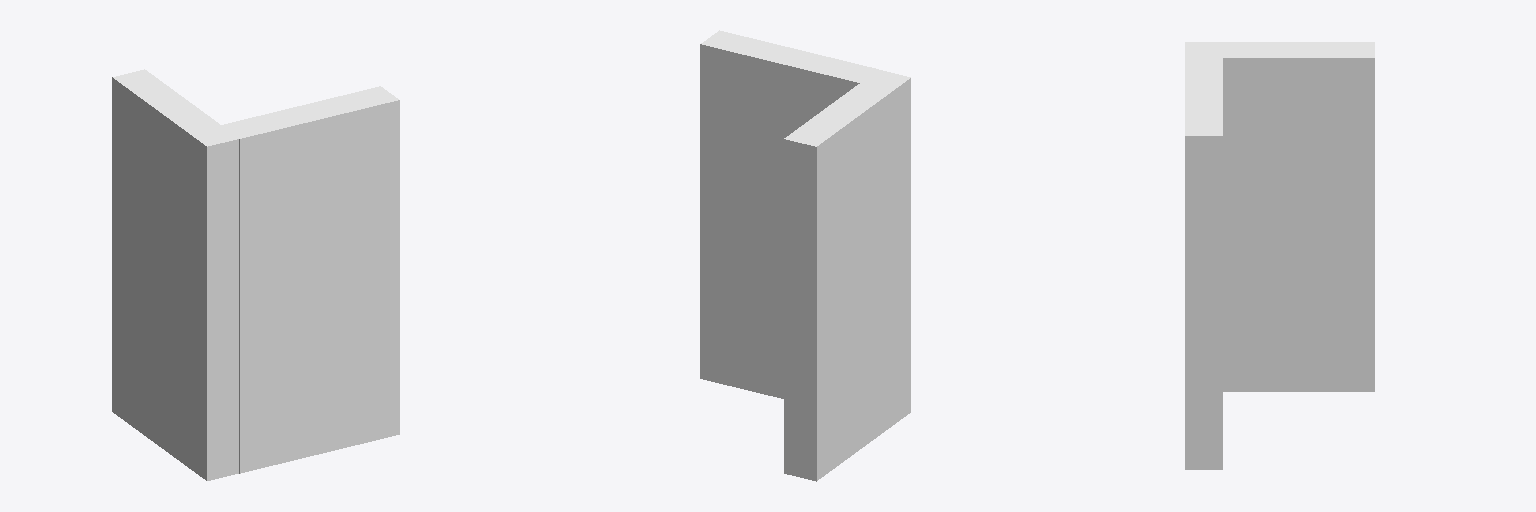
The model's file is brickWall.obj.
The picture shows the model from 3 angles: view 1: azimuth 30°, elevation 25°; view 2: azimuth 150°, elevation 25°; view 3: azimuth 270°, elevation 25°; orthographic projection.
Parts seen in each view (by area): view 1: brickWall; view 2: brickWall; view 3: brickWall.
Part boxes in pixels (x1,y1,x2,y2): brickWall: (112,69,399,480); brickWall: (700,30,910,481); brickWall: (1185,42,1374,469).
Bounding box in the file's own units: 1.2 × 1.99 × 1.03.